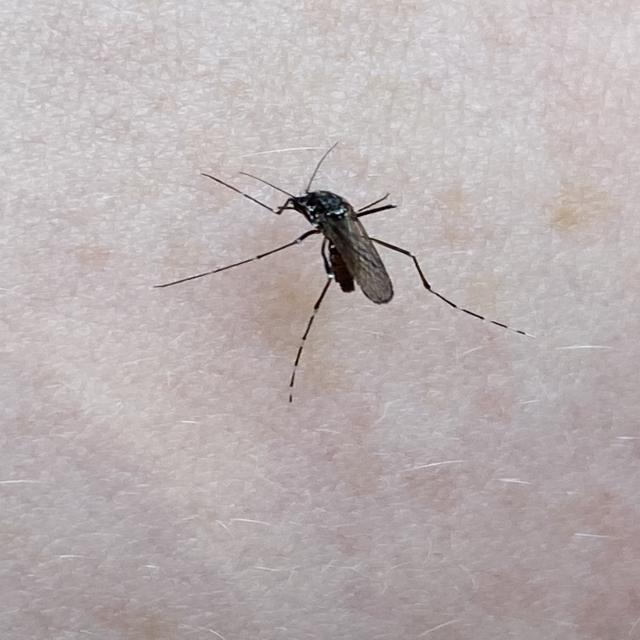albopictus: (158, 140, 538, 398)
